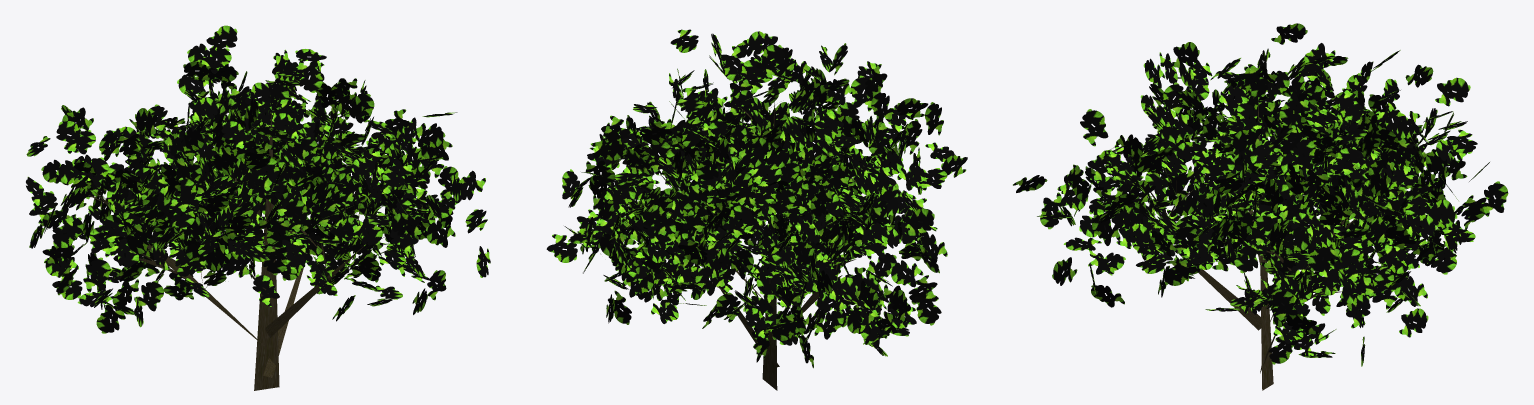
File: understory_laurel_v02_LOD2.fbx
3 renders of one model, left to right at view 1: azimuth 30°, elevation 25°; view 2: azimuth 150°, elevation 25°; view 3: azimuth 270°, elevation 25°, orthographic. The views are drawn at different scales.
Visible parts, largest first — view 1: understory_laurel_v02_LOD2; view 2: understory_laurel_v02_LOD2; view 3: understory_laurel_v02_LOD2.
Boxes of the visible parts, bbox=[...] form: understory_laurel_v02_LOD2: bbox=[26, 25, 490, 390]; understory_laurel_v02_LOD2: bbox=[546, 29, 967, 390]; understory_laurel_v02_LOD2: bbox=[1013, 23, 1508, 390].
Bounding box in the file's own units: 925 × 1017 × 716.
2 materials, 2 textured.
